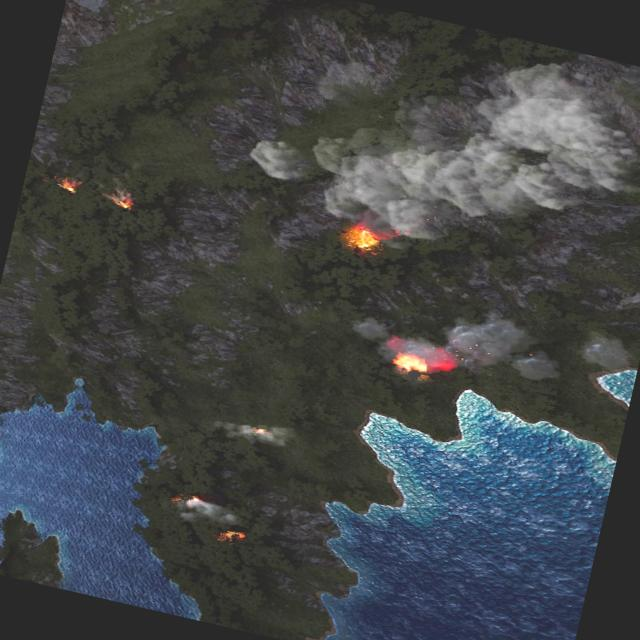fire: (342, 220, 389, 256), (390, 349, 432, 377), (219, 524, 247, 544), (111, 192, 138, 210), (62, 176, 82, 194), (248, 422, 268, 439), (189, 494, 200, 502)
smoke: (238, 0, 640, 285), (350, 285, 570, 401), (212, 410, 294, 450), (174, 492, 244, 532)
